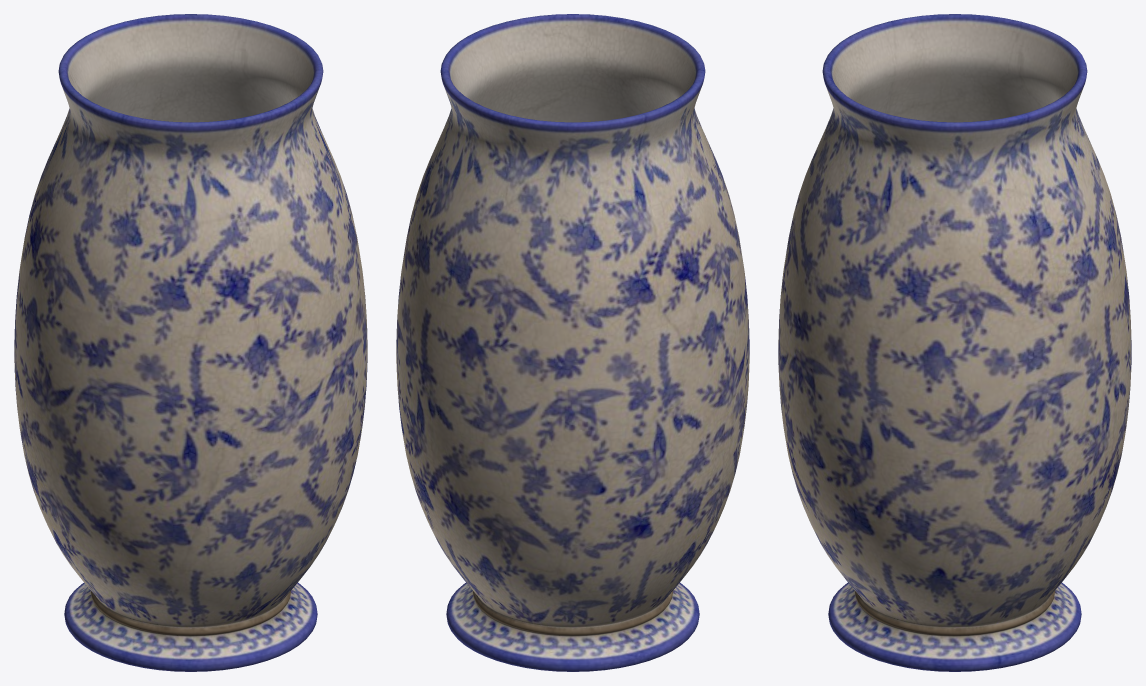
The model's file is antique_ceramic_vase_01.glb.
3 views of the same model, side by side, from view 1: azimuth 30°, elevation 25°; view 2: azimuth 150°, elevation 25°; view 3: azimuth 270°, elevation 25° (orthographic).
Parts seen in each view (by area): view 1: antique_ceramic_vase_01; view 2: antique_ceramic_vase_01; view 3: antique_ceramic_vase_01.
Part boxes in pixels (left/top/right/bottom): antique_ceramic_vase_01: left=14, top=14, right=367, bottom=671; antique_ceramic_vase_01: left=396, top=14, right=749, bottom=671; antique_ceramic_vase_01: left=778, top=14, right=1131, bottom=671.
Size of the model in its own units: 0.255 by 0.4396 by 0.255.
Materials: 1 (1 with a texture image).
